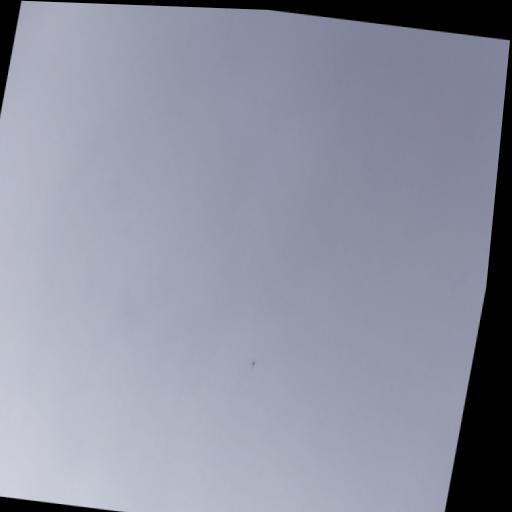drones: (247, 357, 259, 370)
